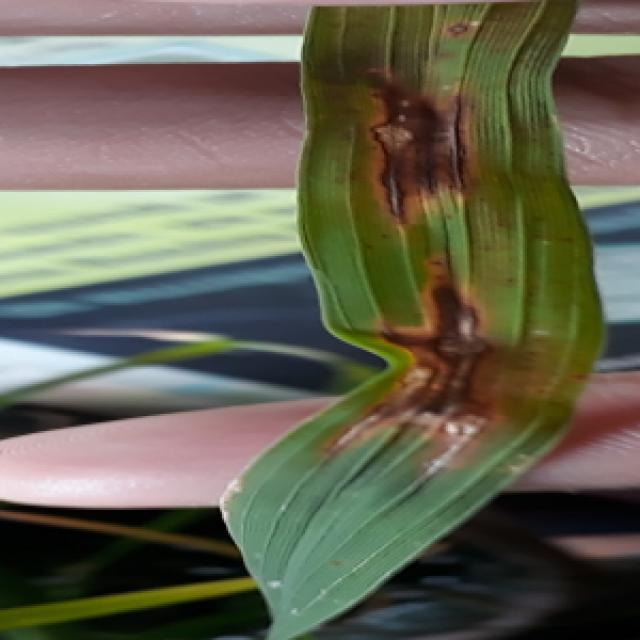Blast: (356, 70, 491, 218), (384, 300, 495, 454), (412, 262, 474, 299), (333, 405, 382, 450), (442, 14, 480, 40)
